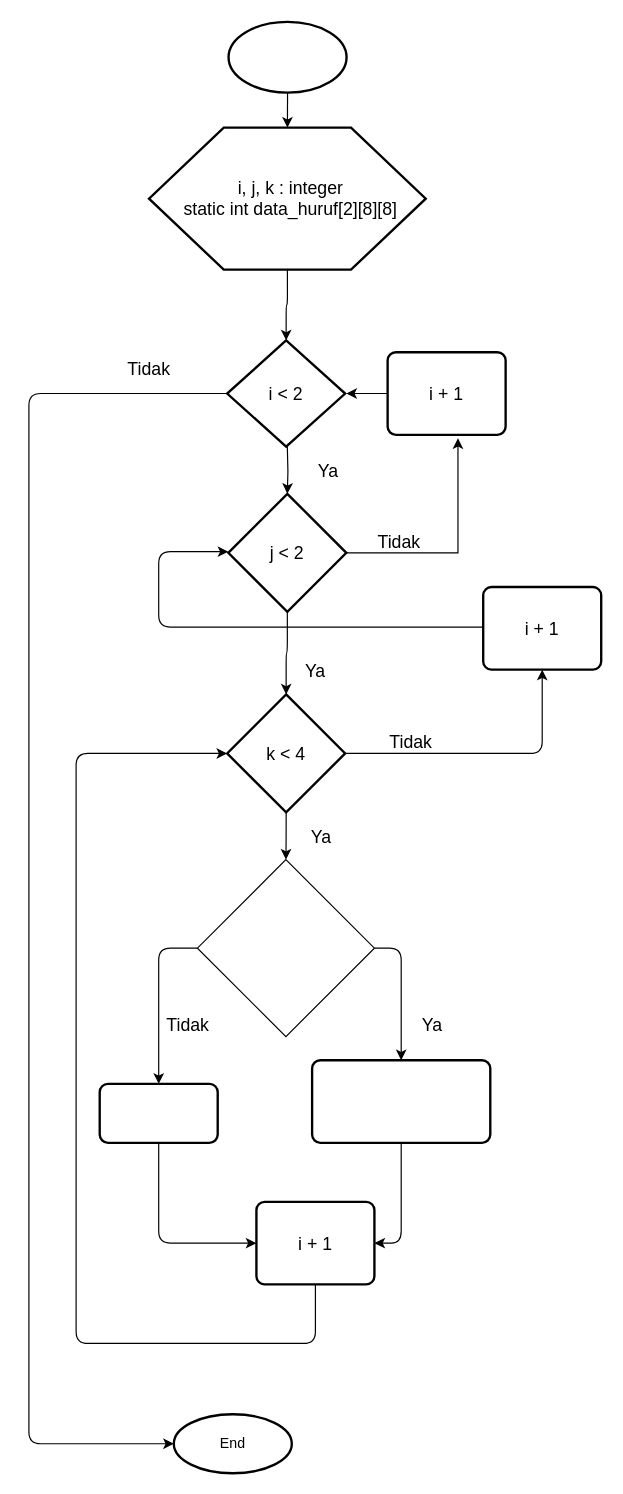
The diagram is 623 pixels wide and 1494 high, and some of its shapes have lost their labels. Each missing label, with the centre of its shape:
data_huruf[i][j][k]: [285,947]
Print " " (spasi): [158,1112]
Print \xDB: [400,1100]
start: [287,56]
